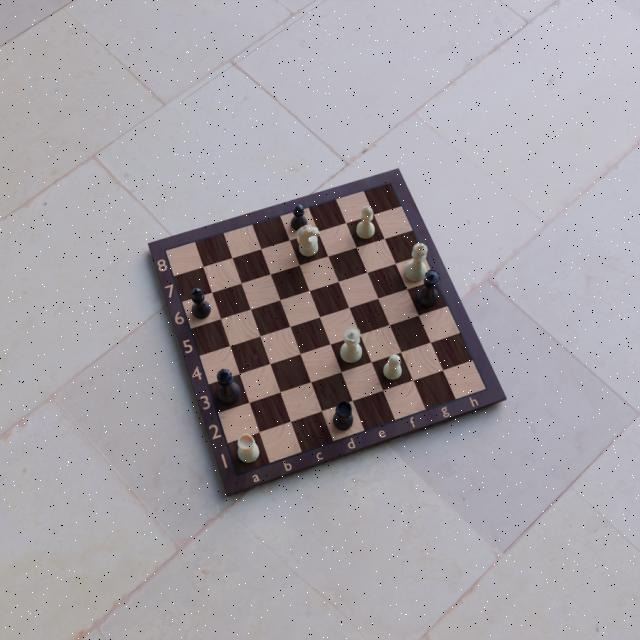black-bishop: (189, 287, 211, 319)
black-king: (216, 368, 241, 406)
black-pawn: (290, 204, 308, 232)
black-queen: (416, 268, 439, 308)
black-rook: (331, 400, 354, 432)
white-bishop: (355, 204, 377, 240)
white-king: (403, 241, 428, 283)
white-knight: (295, 225, 320, 259)
white-pawn: (383, 354, 403, 382)
white-queen: (339, 326, 362, 366)
white-rook: (235, 433, 260, 465)
